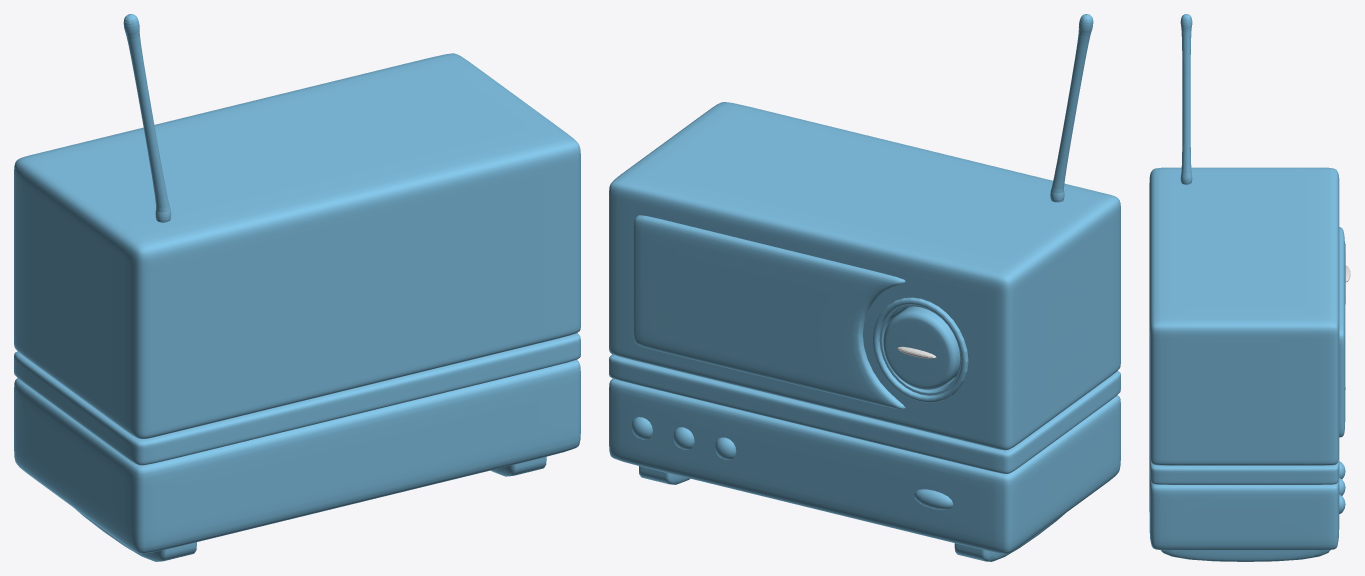
The model's file is radio.fbx.
The picture shows the model from 3 angles, left to right: view 1: azimuth 30°, elevation 25°; view 2: azimuth 150°, elevation 25°; view 3: azimuth 270°, elevation 25°; orthographic projection. The views are drawn at different scales.
Visible parts, largest first — view 1: Cube; view 2: Cube; view 3: Cube.
Boxes of the visible parts, left/top/right/bottom form: Cube: left=14, top=14, right=580, bottom=561; Cube: left=609, top=14, right=1120, bottom=561; Cube: left=1149, top=14, right=1350, bottom=561.
Bounding box in the file's own units: 16 × 18.83 × 8.47.
